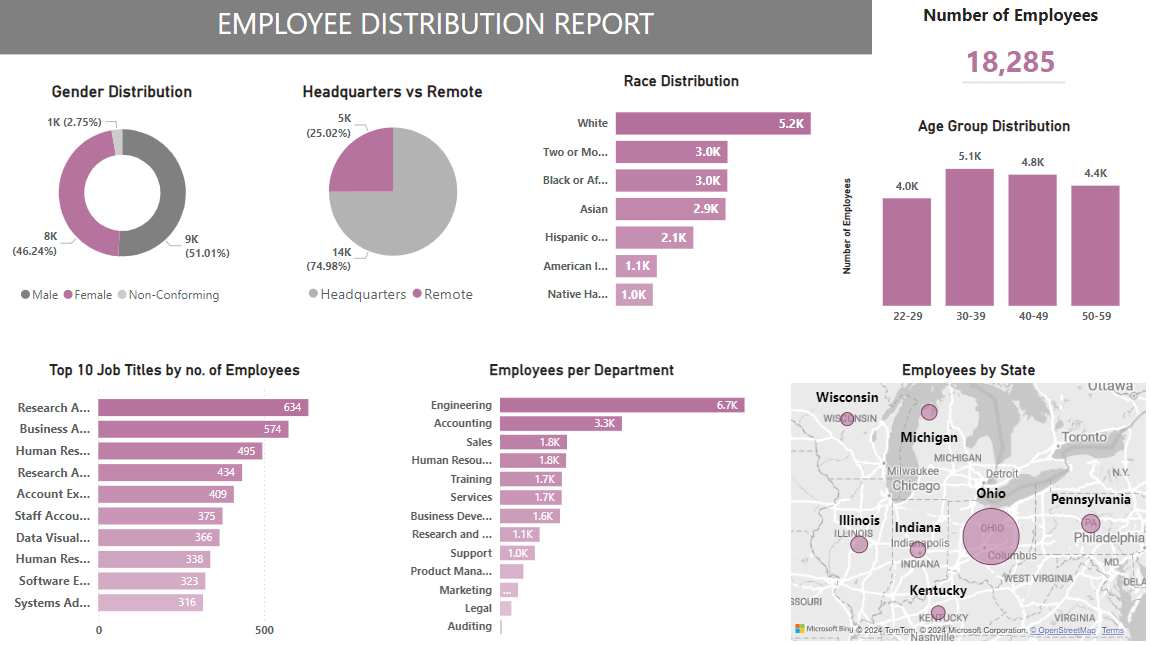

The dashboard page shown, as its layout file describes it:
{"tool":"powerbi","page":{"name":"Employee Diversity","canvas":[1280,720],"ordinal":0},"visuals":[{"type":"textbox","box":[0,0,970,62.9],"z":0},{"type":"donutChart","title":"Gender Distribution","fields":{"Category":["Gender.gender"],"Y":["Sum(Gender.count)"]},"box":[0,93.3,273.3,255],"z":1000},{"type":"pieChart","title":"Headquarters vs Remote","fields":{"Y":["Sum(location.count)"],"Category":["location.location"]},"box":[290,93.3,295,255],"z":2000},{"type":"map","title":"Employees by State","fields":{"Size":["Sum(state.count)"],"Category":["state.location_state"]},"box":[875,403.3,405,316.7],"z":3000},{"type":"clusteredBarChart","title":"Race Distribution","fields":{"Category":["Race.race"],"Y":["Sum(Race.count)"]},"box":[585,81.7,346.7,278.3],"z":4000},{"type":"textbox","box":[997.1,0,254.3,105.7],"z":5000},{"type":"columnChart","title":"Age Group Distribution","fields":{"Category":["age_group.age_group"],"Y":["Sum(age_group.count)"]},"box":[931.7,131.7,348.3,240],"z":6000},{"type":"clusteredBarChart","title":"Top 10 Job Titles by no. of Employees","fields":{"Category":["jobtitle.jobtitle"],"Y":["Sum(jobtitle.count)"]},"box":[0,403.3,390,316.7],"z":7000},{"type":"shape","box":[1070.3,81,115,24.3],"z":8000},{"type":"clusteredBarChart","title":"Employees per Department","fields":{"Category":["Human Resources.department"],"Y":["Human Resources.Total employees"]},"box":[438.3,403.3,418.3,316.7],"z":9000}]}

Visuals, with their boxes in screenshot pixels (x1, y1, x2, y2), scaled from the page's 1280x720 canvas onto the 1151x645 screenshot:
textbox: [x1=0, y1=0, x2=872, y2=56]
"Gender Distribution" donutChart: [x1=0, y1=84, x2=246, y2=312]
"Headquarters vs Remote" pieChart: [x1=261, y1=84, x2=526, y2=312]
"Employees by State" map: [x1=787, y1=361, x2=1150, y2=644]
"Race Distribution" clusteredBarChart: [x1=526, y1=73, x2=838, y2=322]
textbox: [x1=897, y1=0, x2=1125, y2=95]
"Age Group Distribution" columnChart: [x1=838, y1=118, x2=1150, y2=333]
"Top 10 Job Titles by no. of Employees" clusteredBarChart: [x1=0, y1=361, x2=351, y2=644]
shape: [x1=962, y1=73, x2=1066, y2=94]
"Employees per Department" clusteredBarChart: [x1=394, y1=361, x2=770, y2=644]
